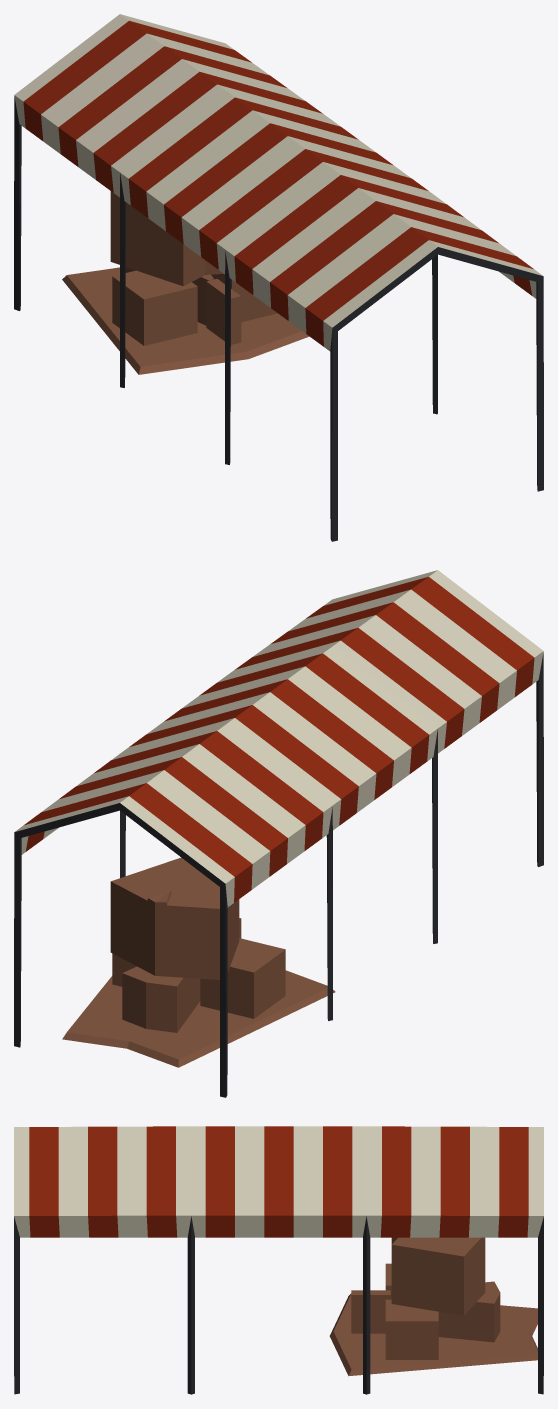
The model's file is LPWarPack_Tent2.fbx.
The picture shows the model from 3 angles, top to bottom: view 1: azimuth 30°, elevation 25°; view 2: azimuth 150°, elevation 25°; view 3: azimuth 270°, elevation 25°; orthographic projection. The views are drawn at different scales.
Visible parts, largest first — view 1: Tent2; view 2: Tent2; view 3: Tent2.
Boxes of the visible parts, x1,y1,x2,y2 form: Tent2: [14, 14, 543, 541]; Tent2: [14, 570, 543, 1097]; Tent2: [14, 1126, 543, 1394].
Bounding box in the file's own units: 206 × 250 × 534.
